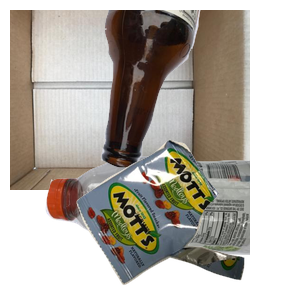cardboard: (10, 10, 250, 190)
glass: (99, 10, 300, 170)
plastic: (43, 152, 283, 300)
trash: (74, 137, 300, 300)
